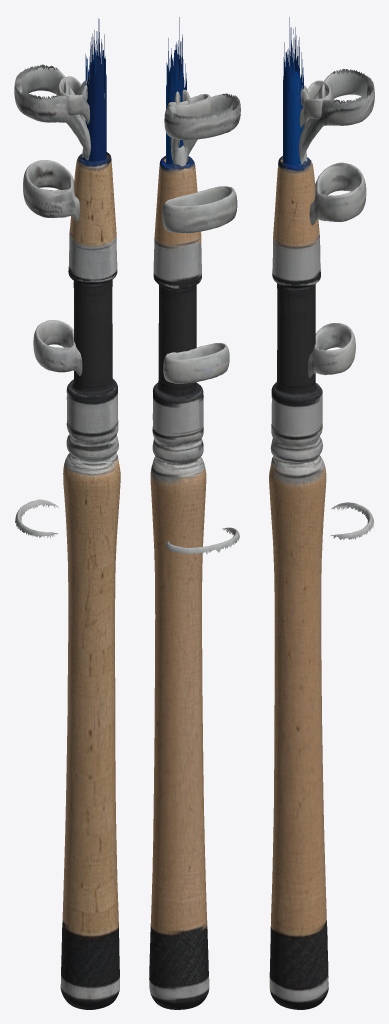
The model's file is carp_borealis.glb.
3 renders of one model, left to right at view 1: azimuth 90°, elevation 25°; view 2: azimuth 210°, elevation 25°; view 3: azimuth 270°, elevation 25°, orthographic.
Visible parts, largest first — view 1: Handle, Seg2, Seg4, Seg6, Seg0, Seg3, Seg7, Seg1; view 2: Handle, Seg4, Seg2, Seg6, Seg3, Seg7, Seg0, Seg1; view 3: Handle, Seg2, Seg4, Seg6, Seg0, Seg3, Seg7, Seg1.
Boxes of the visible parts, x1=… form: Handle: x1=60, y1=152, x2=120, y2=1009; Seg2: x1=14, y1=39, x2=104, y2=160; Seg4: x1=23, y1=19, x2=102, y2=221; Seg6: x1=33, y1=44, x2=100, y2=375; Seg0: x1=85, y1=42, x2=106, y2=161; Seg3: x1=15, y1=31, x2=104, y2=538; Seg7: x1=56, y1=43, x2=100, y2=124; Seg1: x1=87, y1=34, x2=105, y2=127; Handle: x1=149, y1=155, x2=209, y2=1009; Seg4: x1=162, y1=17, x2=237, y2=233; Seg2: x1=164, y1=70, x2=240, y2=166; Seg6: x1=163, y1=58, x2=229, y2=383; Seg3: x1=166, y1=34, x2=239, y2=554; Seg7: x1=167, y1=50, x2=210, y2=117; Seg0: x1=166, y1=60, x2=186, y2=165; Seg1: x1=166, y1=38, x2=185, y2=101; Handle: x1=269, y1=156, x2=328, y2=1009; Seg2: x1=287, y1=48, x2=374, y2=163; Seg4: x1=286, y1=17, x2=366, y2=225; Seg6: x1=290, y1=53, x2=355, y2=378; Seg0: x1=283, y1=37, x2=303, y2=165; Seg3: x1=285, y1=28, x2=374, y2=539; Seg7: x1=288, y1=52, x2=332, y2=127; Seg1: x1=283, y1=42, x2=302, y2=110.
Bounding box in the file's own units: 0.0516 × 0.6786 × 0.0661.
1 material, 1 textured.
